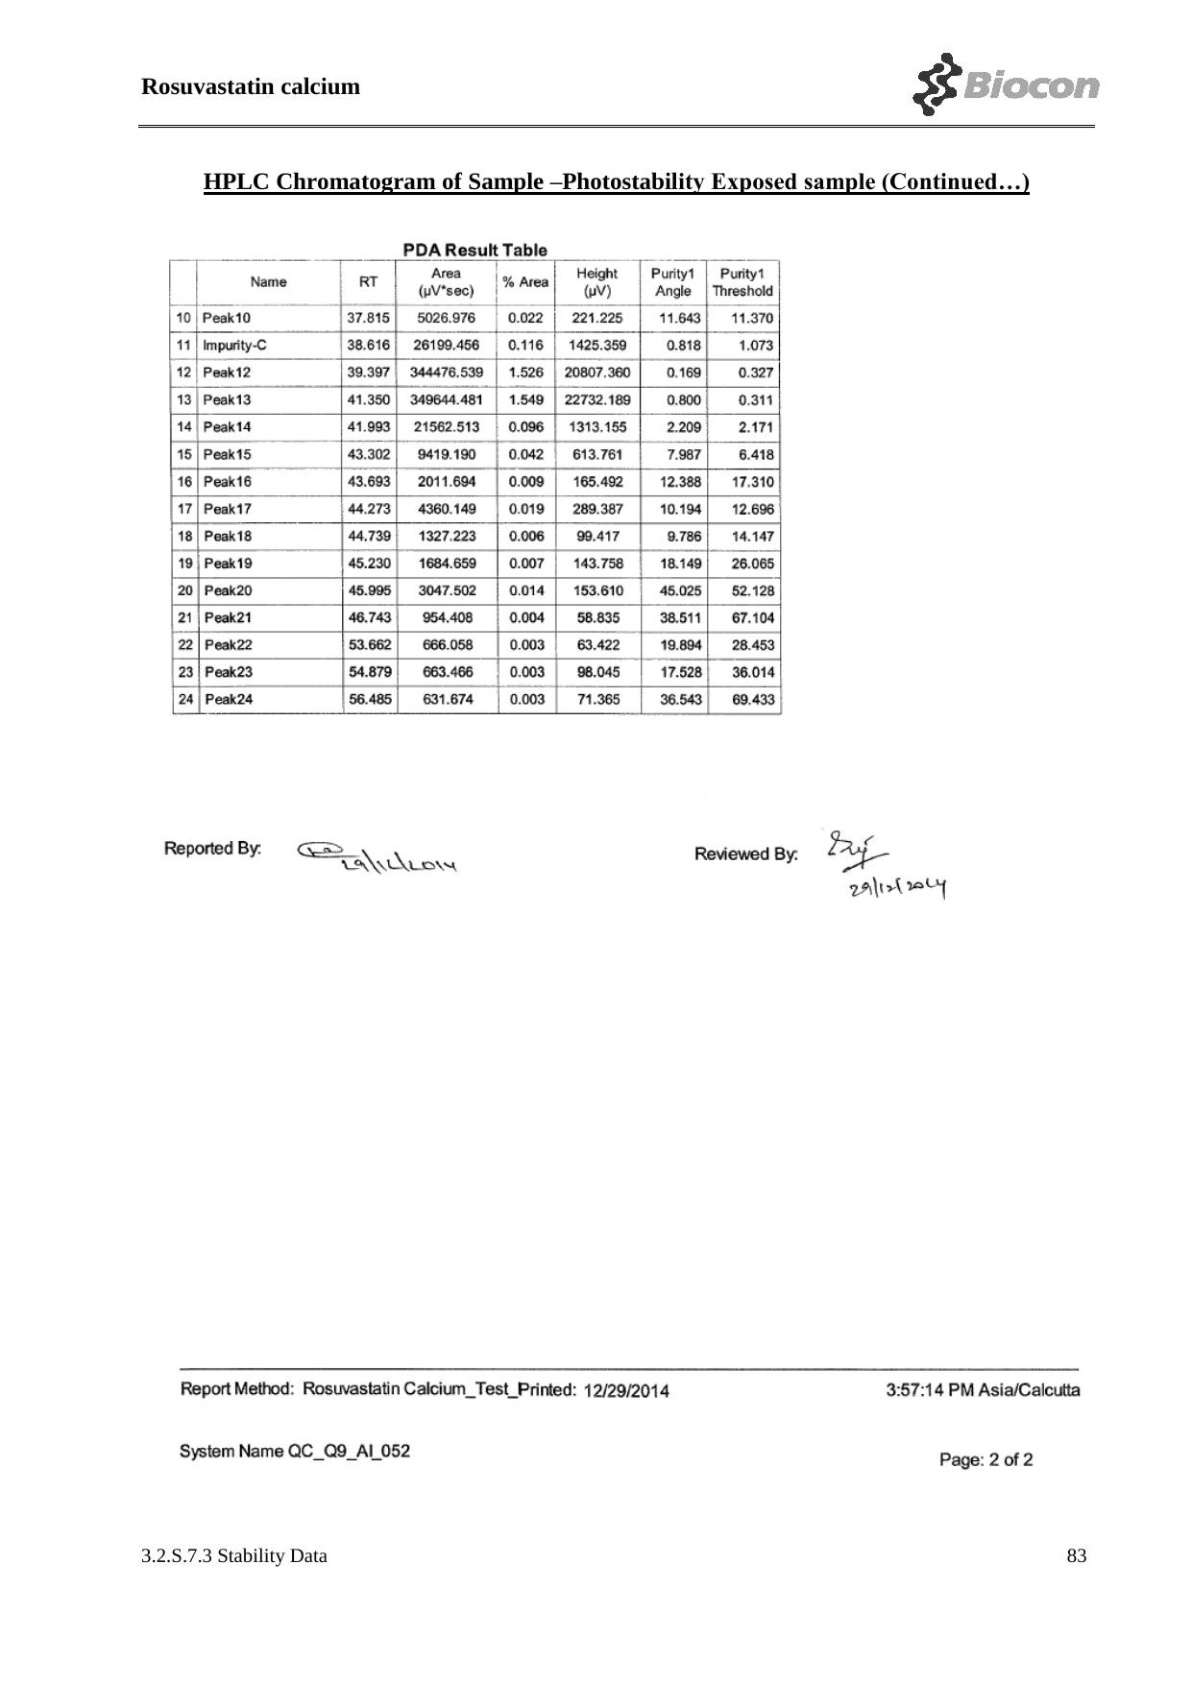full_lined: (169, 259, 783, 716)
